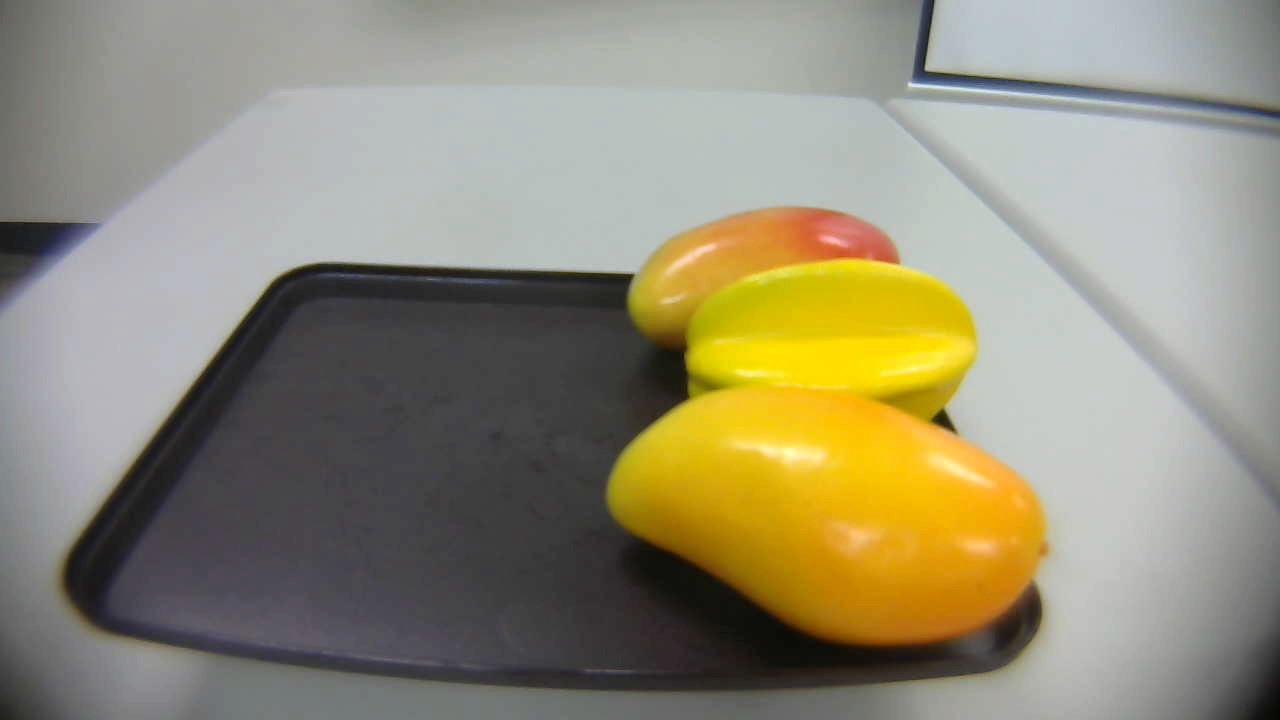red mango: (615, 202, 904, 345)
star fruit: (681, 260, 981, 455)
yellow mango: (592, 381, 1058, 650)
